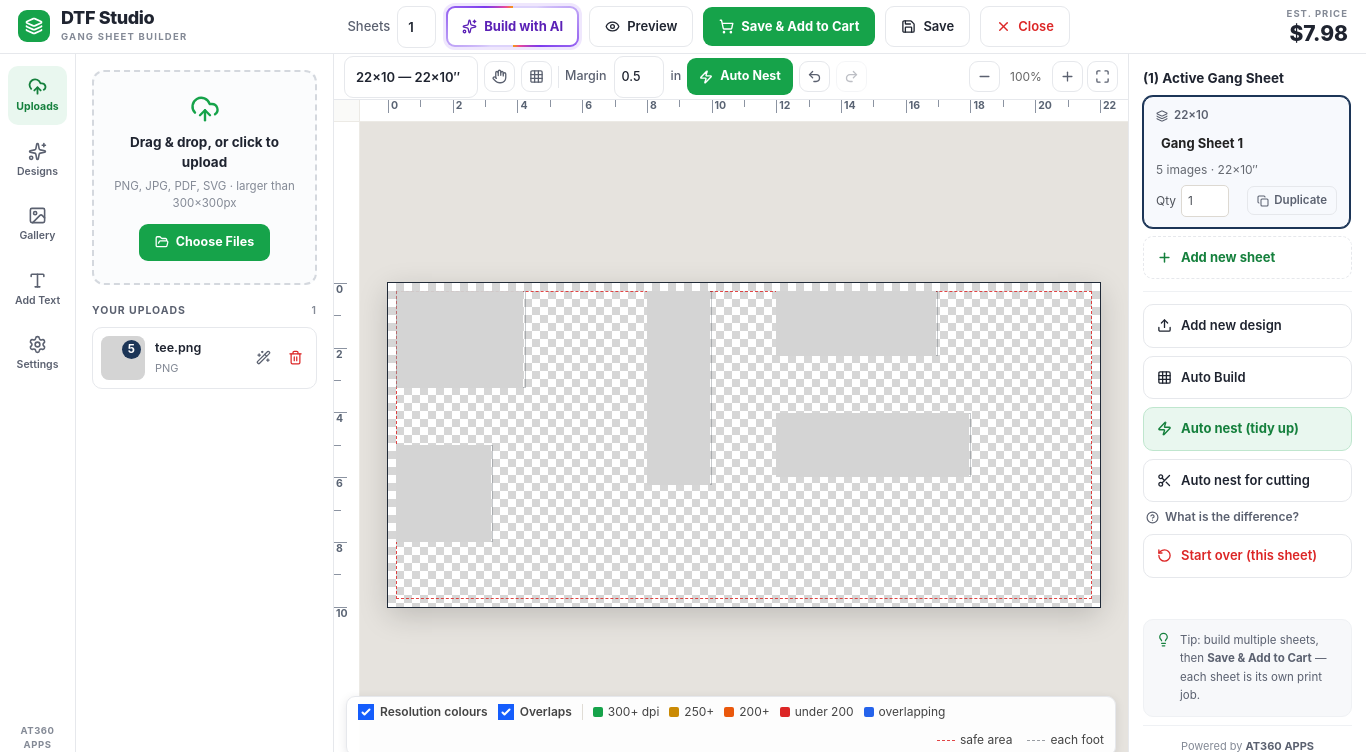
Test: auto nest › shows what the two arrangements are, drawn side by side
Click the button with aria-label "What is the difference between the two?" at (1222, 517), box [1143,508,1302,526]
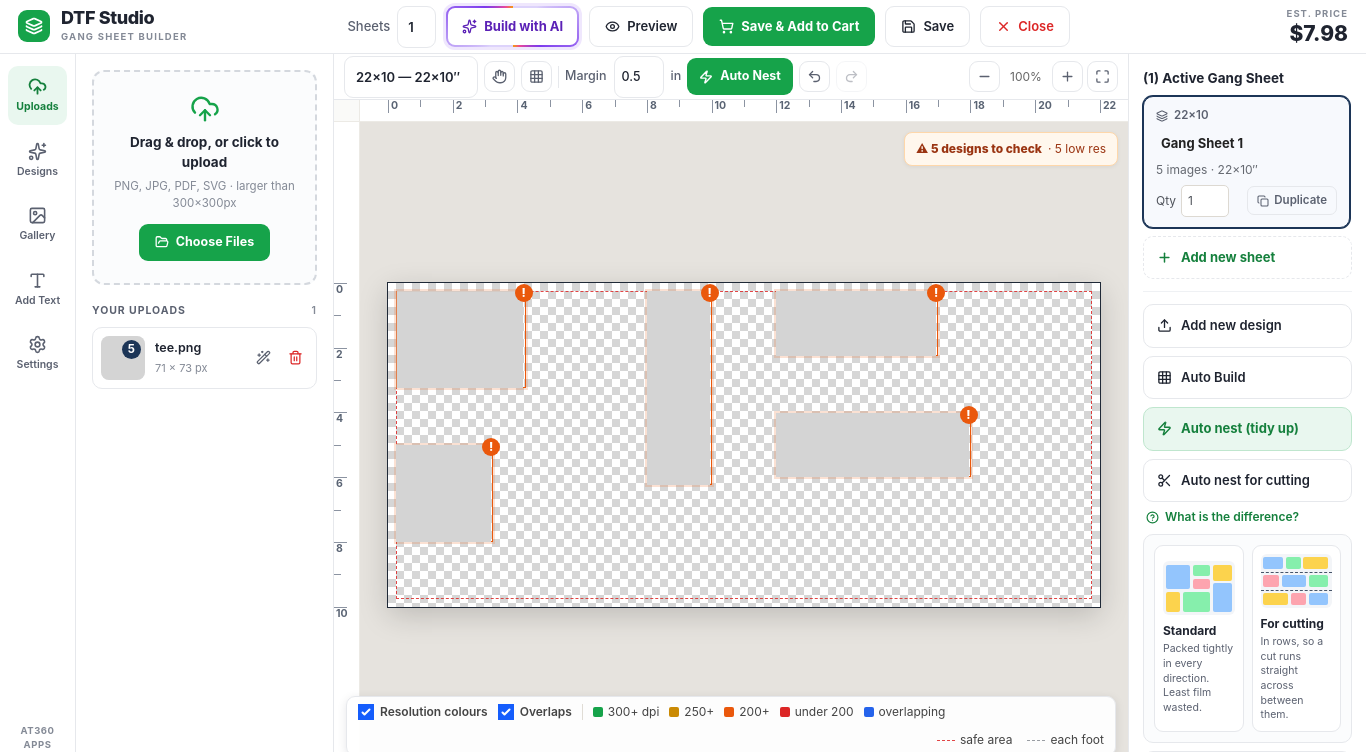
Now the text "Standard" is shown, box [1163,623,1216,638]
Now the text "For cutting" is shown, box [1260,615,1332,633]
